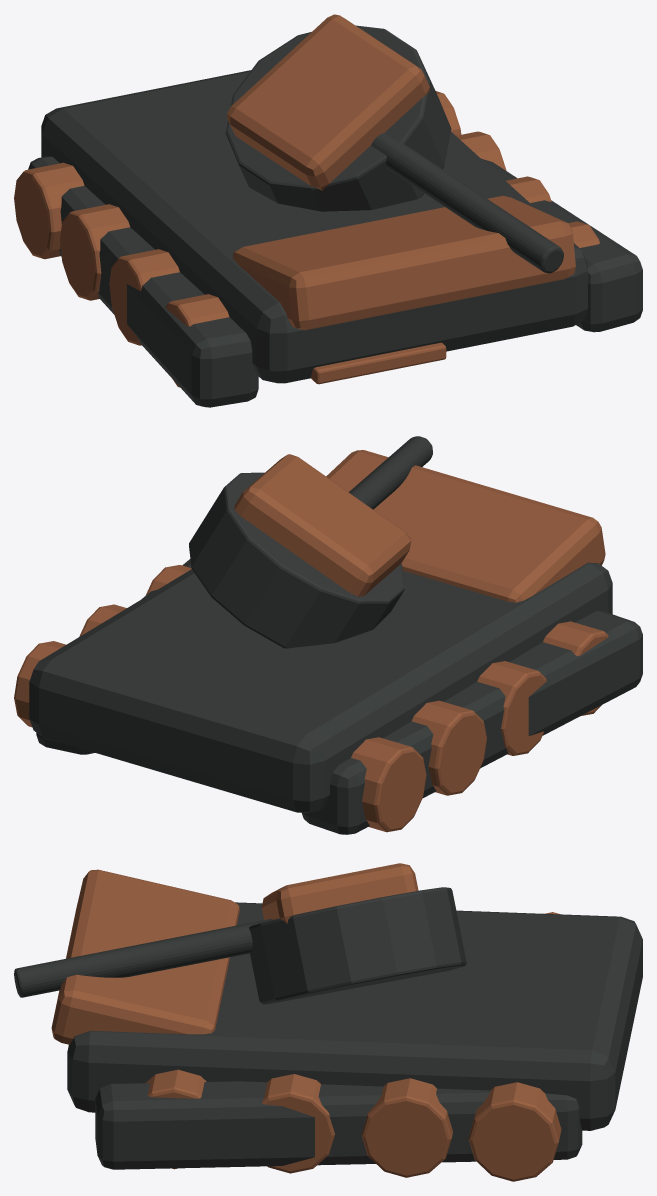
File: ff_wrk_01_v1.glb
The picture shows the model from 3 angles, top to bottom: view 1: azimuth 30°, elevation 25°; view 2: azimuth 150°, elevation 25°; view 3: azimuth 270°, elevation 25°; orthographic projection. The views are drawn at different scales.
Parts seen in each view (by area): view 1: burnt_hull, torn_front, turret_rust_plate, broken_track_0, turret_shell, broken_barrel, broken_track_1, wreck_wheel_0_3, wreck_wheel_0_2, wreck_wheel_0_1, scorch_plate, wreck_wheel_0_0 (+3 smaller); view 2: burnt_hull, torn_front, turret_shell, broken_track_0, turret_rust_plate, wreck_wheel_0_3, wreck_wheel_0_2, wreck_wheel_0_1, broken_barrel, wreck_wheel_0_0, wreck_wheel_1_3, wreck_wheel_1_2; view 3: burnt_hull, broken_track_1, torn_front, turret_shell, wreck_wheel_1_3, broken_barrel, wreck_wheel_1_2, turret_rust_plate, wreck_wheel_1_1, wreck_wheel_1_0.
Boxes of the visible parts, x1,y1,x2,y2 form: burnt_hull: (41,70,587,383); torn_front: (233,195,575,330); turret_rust_plate: (227,14,429,190); broken_track_0: (28,156,258,407); turret_shell: (225,25,451,211); broken_barrel: (371,133,563,273); broken_track_1: (481,158,642,332); wreck_wheel_0_3: (14,162,84,259); wreck_wheel_0_2: (59,204,129,300); wreck_wheel_0_1: (109,249,179,345); scorch_plate: (311,342,446,384); wreck_wheel_0_0: (165,294,229,387); burnt_hull: (29,562,612,812); torn_front: (326,450,605,602); turret_shell: (189,472,404,648); broken_track_0: (302,611,642,834); turret_rust_plate: (234,454,411,596); wreck_wheel_0_3: (351,737,426,832); wreck_wheel_0_2: (412,700,486,795); wreck_wheel_0_1: (477,661,546,755); broken_barrel: (349,436,432,509); wreck_wheel_0_0: (543,621,608,715); wreck_wheel_1_3: (14,641,65,727); wreck_wheel_1_2: (79,604,126,636); burnt_hull: (67,902,642,1130); broken_track_1: (95,1081,582,1169); torn_front: (51,869,239,1044); turret_shell: (249,887,466,1004); wreck_wheel_1_3: (468,1082,561,1181); broken_barrel: (14,918,272,997); wreck_wheel_1_2: (361,1078,452,1177); turret_rust_plate: (261,863,418,923); wreck_wheel_1_1: (262,1074,334,1173); wreck_wheel_1_0: (146,1069,206,1169).
Size of the model in its own units: 3.88 by 2.03 by 4.86.
